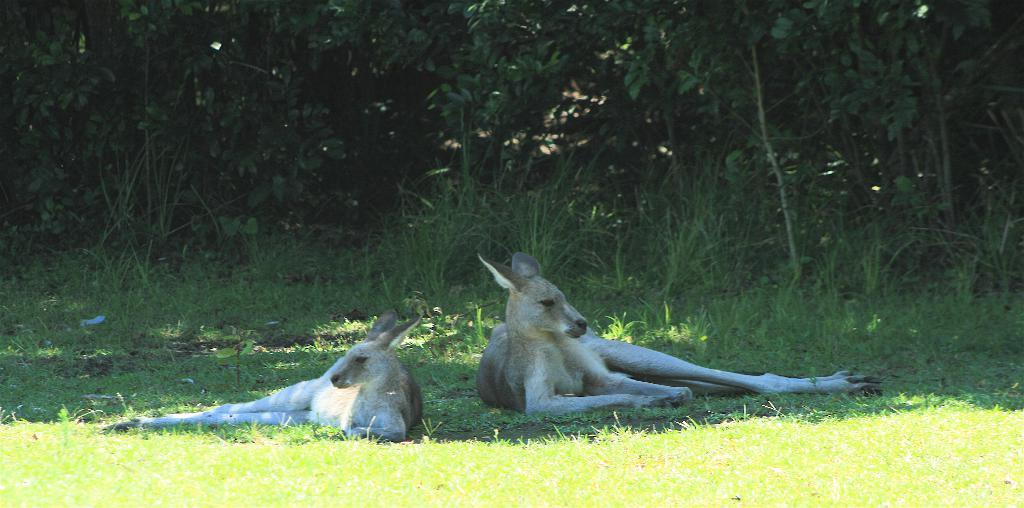kangaroo: (474, 250, 880, 421), (102, 307, 424, 447), (102, 310, 420, 448)
